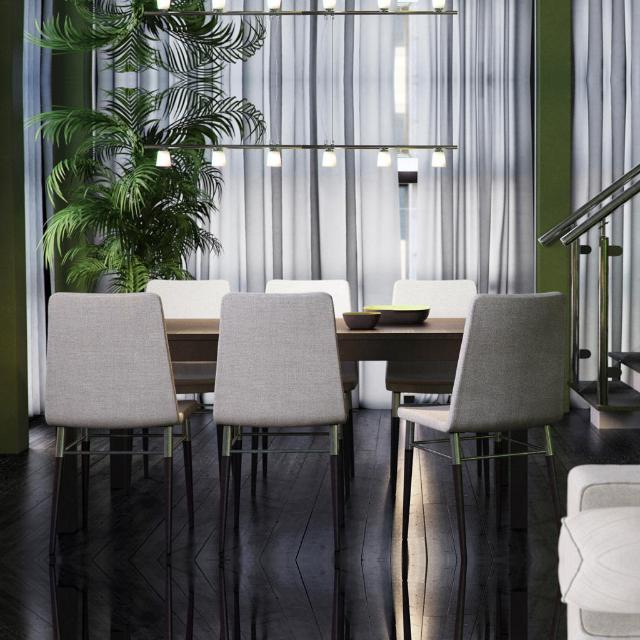obstacle: (47, 277, 561, 553), (47, 567, 561, 640), (556, 444, 640, 560), (556, 560, 640, 640)
